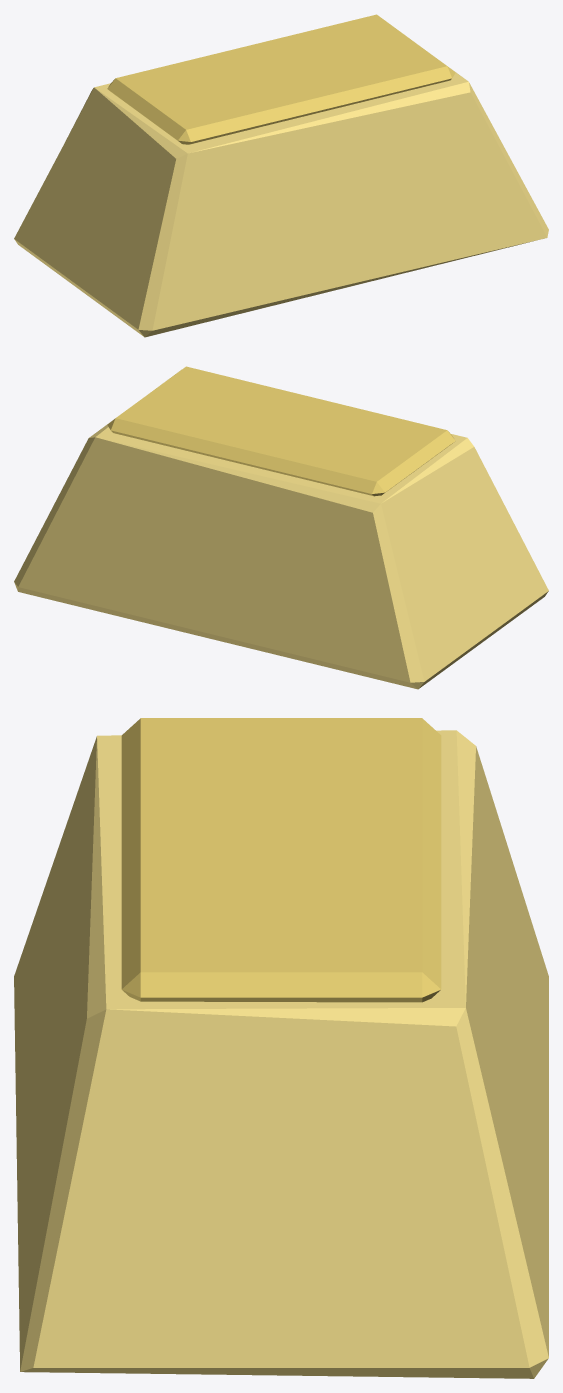
Rendered from item_gold.glb.
3 views of the same model, one above another, from view 1: azimuth 30°, elevation 25°; view 2: azimuth 150°, elevation 25°; view 3: azimuth 270°, elevation 25° (orthographic). The views are drawn at different scales.
Visible parts, largest first — view 1: item_gold; view 2: item_gold; view 3: item_gold.
Part boxes in pixels (x1,y1,x2,y2): item_gold: (14,14,548,337); item_gold: (14,366,548,689); item_gold: (14,718,548,1378).
Bounding box in the file's own units: 0.2955 × 0.117 × 0.1673.
